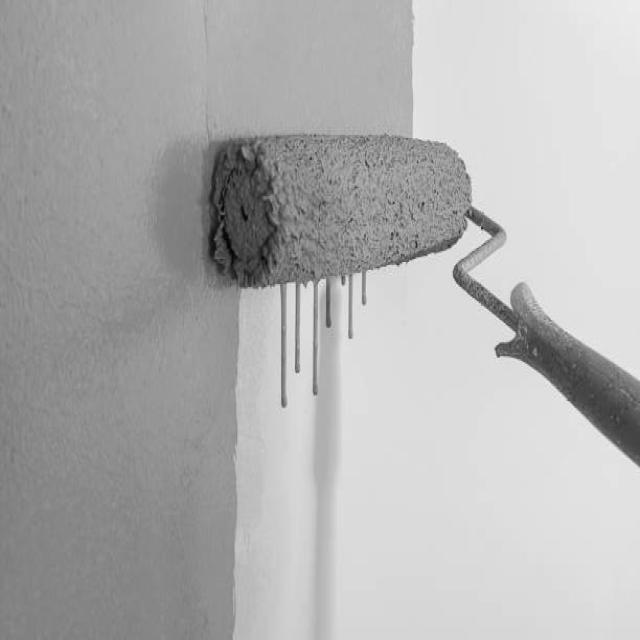paint drips: (271, 262, 378, 426)
